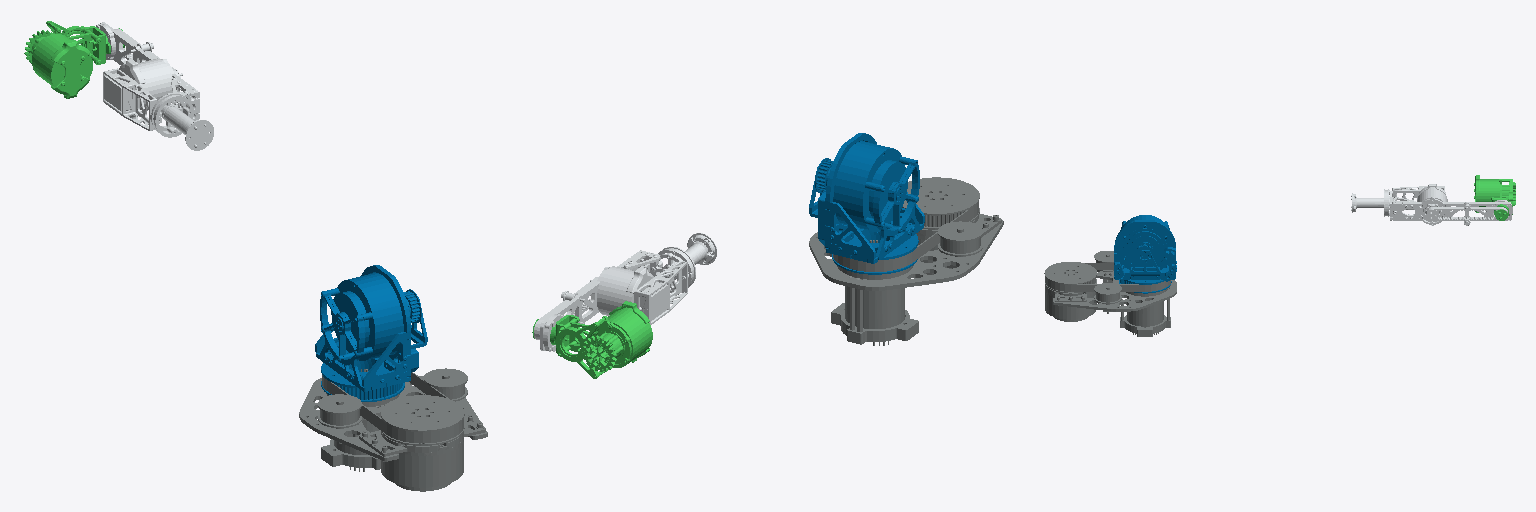
The robot description file, URDF, robot "new_hj_arm2":
<?xml version="1.0" encoding="utf-8"?>
<!-- This URDF was automatically created by SolidWorks to URDF Exporter! Originally created by Stephen Brawner (brawner@gmail.com) 
     Commit Version: 1.6.0-4-g7f85cfe  Build Version: 1.6.7995.38578
     For more information, please see http://wiki.ros.org/sw_urdf_exporter -->
<robot
  name="new_hj_arm2">
  <link name="world"/>
  <joint name="world_to_base_link" type="fixed">
    <origin xyz="0 0 0" rpy="0 0 0"/>
    <parent link="world"/>
    <child link="base_link"/>
  </joint>
  <link
    name="base_link">
    <inertial>
      <origin
        xyz="4.16700669638267E-06 -0.0794009240803317 -0.0408298312832621"
        rpy="0 0 0" />
      <mass
        value="2.86688620352418" />
      <inertia
        ixx="0.00223352537619486"
        ixy="-5.87508404893691E-07"
        ixz="-2.29906665750856E-12"
        iyy="0.0022625703463343"
        iyz="2.43071271778516E-08"
        izz="0.00345618523186513" />
    </inertial>
    <visual>
      <origin
        xyz="0 0 0"
        rpy="0 0 0" />
      <geometry>
        <mesh
          filename="package://new_hj_arm2/meshes/base_link.STL" />
      </geometry>
      <material
        name="">
        <color
          rgba="0.529411764705882 0.549019607843137 0.549019607843137 1" />
      </material>
    </visual>
    <collision>
      <origin
        xyz="0 0 0"
        rpy="0 0 0" />
      <geometry>
        <mesh
          filename="package://new_hj_arm2/meshes/base_link.STL" />
      </geometry>
    </collision>
  </link>
  <link
    name="Link1">
    <inertial>
      <origin
        xyz="0.00797090591062245 0.000282545554052716 0.0480604504227741"
        rpy="0 0 0" />
      <mass
        value="1.43755902347823" />
      <inertia
        ixx="0.00152283746881714"
        ixy="-1.93557146655719E-10"
        ixz="-5.34528316583207E-06"
        iyy="0.00105313129890023"
        iyz="-3.18188661212367E-08"
        izz="0.00124552449316011" />
    </inertial>
    <visual>
      <origin
        xyz="0 0 0"
        rpy="0 0 0" />
      <geometry>
        <mesh
          filename="package://new_hj_arm2/meshes/Link1.STL" />
      </geometry>
      <material
        name="">
        <color
          rgba="0.0392156862745098 0.490196078431373 0.709803921568627 1" />
      </material>
    </visual>
    <collision>
      <origin
        xyz="0 0 0"
        rpy="0 0 0" />
      <geometry>
        <mesh
          filename="package://new_hj_arm2/meshes/Link1.STL" />
      </geometry>
    </collision>
  </link>
  <joint
    name="J1"
    type="revolute">
    <origin
      xyz="0 0 0"
      rpy="0 0 0" />
    <parent
      link="base_link" />
    <child
      link="Link1" />
    <axis
      xyz="0 0 -1" />
    <limit
      lower="-1.57"
      upper="1.57"
      effort="0"
      velocity="0" />
  </joint>
  <link
    name="Link2">
    <inertial>
      <origin
        xyz="0.264563770199006 -0.0298779735329925 -0.0347216558396851"
        rpy="0 0 0" />
      <mass
        value="1.222161876607" />
      <inertia
        ixx="0.0005267286144745"
        ixy="-4.95569461982746E-06"
        ixz="-5.40507552552327E-06"
        iyy="0.0022142748549949"
        iyz="1.05144051154721E-08"
        izz="0.00243683580951343" />
    </inertial>
    <visual>
      <origin
        xyz="0 0 0"
        rpy="0 0 0" />
      <geometry>
        <mesh
          filename="package://new_hj_arm2/meshes/Link2.STL" />
      </geometry>
      <material
        name="">
        <color
          rgba="0.298039215686275 0.298039215686275 0.298039215686275 1" />
      </material>
    </visual>
    <collision>
      <origin
        xyz="0 0 0"
        rpy="0 0 0" />
      <geometry>
        <mesh
          filename="package://new_hj_arm2/meshes/Link2.STL" />
      </geometry>
    </collision>
  </link>
  <joint
    name="J2"
    type="revolute">
    <origin
      xyz="-0.00714999999999977 0 0.0665000000000032"
      rpy="-1.5707963267949 0 1.5707963267949" />
    <parent
      link="Link1" />
    <child
      link="Link2" />
    <axis
      xyz="0 0 -1" />
    <limit
      lower="0"
      upper="3.14"
      effort="0"
      velocity="0" />
  </joint>
  <link
    name="Link3">
    <inertial>
      <origin
        xyz="0.113684624569099 0.0240009505721293 0.00280474834274411"
        rpy="0 0 0" />
      <mass
        value="1.08853156661815" />
      <inertia
        ixx="0.000433664423325676"
        ixy="-2.30950084364458E-07"
        ixz="-1.19178135668178E-05"
        iyy="0.000442953685344573"
        iyz="4.28661024823455E-08"
        izz="0.000443431763019291" />
    </inertial>
    <visual>
      <origin
        xyz="0 0 0"
        rpy="0 0 0" />
      <geometry>
        <mesh
          filename="package://new_hj_arm2/meshes/Link3.STL" />
      </geometry>
      <material
        name="">
        <color
          rgba="1 1 1 1" />
      </material>
    </visual>
    <collision>
      <origin
        xyz="0 0 0"
        rpy="0 0 0" />
      <geometry>
        <mesh
          filename="package://new_hj_arm2/meshes/Link3.STL" />
      </geometry>
    </collision>
  </link>
  <joint
    name="J3"
    type="revolute">
    <origin
      xyz="0.359999999999996 0 0.0291500000000226"
      rpy="0 0 -1.57079632679488" />
    <parent
      link="Link2" />
    <child
      link="Link3" />
    <axis
      xyz="0 0 -1" />
    <limit
      lower="-3.14"
      upper="0"
      effort="0"
      velocity="0" />
  </joint>
  <link
    name="Link4">
    <inertial>
      <origin
        xyz="-0.014973832536804 2.31717537935161E-06 0.145136725371898"
        rpy="0 0 0" />
      <mass
        value="0.616504910180927" />
      <inertia
        ixx="0.000511697593438133"
        ixy="1.41099830766639E-08"
        ixz="-4.32931649609612E-08"
        iyy="0.000485390300822091"
        iyz="-4.40119577329866E-07"
        izz="0.000158586296116346" />
    </inertial>
    <visual>
      <origin
        xyz="0 0 0"
        rpy="0 0 0" />
      <geometry>
        <mesh
          filename="package://new_hj_arm2/meshes/Link4.STL" />
      </geometry>
      <material
        name="">
        <color
          rgba="0.898039215686275 0.917647058823529 0.929411764705882 1" />
      </material>
    </visual>
    <collision>
      <origin
        xyz="0 0 0"
        rpy="0 0 0" />
      <geometry>
        <mesh
          filename="package://new_hj_arm2/meshes/Link4.STL" />
      </geometry>
    </collision>
  </link>
  <joint
    name="J4"
    type="revolute">
    <origin
      xyz="0.0800000000000044 0.309999999999998 -0.0391500000000218"
      rpy="1.5707963267949 -1.5707963267949 0" />
    <parent
      link="Link3" />
    <child
      link="Link4" />
    <axis
      xyz="0 0 1" />
    <limit
      lower="-3.14"
      upper="3.14"
      effort="0"
      velocity="0" />
  </joint>
  <link
    name="Link5">
    <inertial>
      <origin
        xyz="5.73658753950657E-05 -0.0172929111633652 0.0272790476313854"
        rpy="0 0 0" />
      <mass
        value="0.438594887761117" />
      <inertia
        ixx="0.000134340591839493"
        ixy="1.26943388632374E-13"
        ixz="9.79839883757852E-13"
        iyy="0.000156693109015802"
        iyz="2.57203003305503E-08"
        izz="0.000137953754169792" />
    </inertial>
    <visual>
      <origin
        xyz="0 0 0"
        rpy="0 0 0" />
      <geometry>
        <mesh
          filename="package://new_hj_arm2/meshes/Link5.STL" />
      </geometry>
      <material
        name="">
        <color
          rgba="0.341176470588235 0.83921568627451 0.411764705882353 1" />
      </material>
    </visual>
    <collision>
      <origin
        xyz="0 0 0"
        rpy="0 0 0" />
      <geometry>
        <mesh
          filename="package://new_hj_arm2/meshes/Link5.STL" />
      </geometry>
    </collision>
  </link>
  <joint
    name="J5"
    type="revolute">
    <origin
      xyz="0 0 0"
      rpy="-1.5707963267949 0 -1.57079632679491" />
    <parent
      link="Link4" />
    <child
      link="Link5" />
    <axis
      xyz="0 0 -1" />
    <limit
      lower="-2.0"
      upper="2.0"
      effort="0"
      velocity="0" />
  </joint>
  <link
    name="Link6">
    <inertial>
      <origin
        xyz="-0.00127413370926294 -0.000463299260715249 0.0878127564203931"
        rpy="0 0 0" />
      <mass
        value="0.624567971061493" />
      <inertia
        ixx="0.000286781766280972"
        ixy="3.06484650489132E-07"
        ixz="-8.87084529559445E-09"
        iyy="0.000185740348109072"
        iyz="-1.89929566435716E-09"
        izz="0.000288461409785258" />
    </inertial>
    <visual>
      <origin
        xyz="0 0 0"
        rpy="0 0 0" />
      <geometry>
        <mesh
          filename="package://new_hj_arm2/meshes/Link6.STL" />
      </geometry>
      <material
        name="">
        <color
          rgba="0.529411764705882 0.549019607843137 0.549019607843137 1" />
      </material>
    </visual>
    <collision>
      <origin
        xyz="0 0 0"
        rpy="0 0 0" />
      <geometry>
        <mesh
          filename="package://new_hj_arm2/meshes/Link6.STL" />
      </geometry>
    </collision>
  </link>
  <joint
    name="J6"
    type="revolute">
    <origin
      xyz="0 0 0"
      rpy="-1.5707963267949 0 0" />
    <parent
      link="Link5" />
    <child
      link="Link6" />
    <axis
      xyz="0 0 -1" />
    <limit
      lower="-3.14"
      upper="3.14"
      effort="0"
      velocity="0" />
  </joint>
</robot>

--- Render facts (derived) ---
Views: 3 orthographic renders of the robot side by side, from view 1: azimuth 30°, elevation 25°; view 2: azimuth 150°, elevation 25°; view 3: azimuth 270°, elevation 25°.
Model new_hj_arm2 with 8 links and 7 joints (6 revolute, 1 fixed), rooted at world, posed every joint at zero.
Links seen in each view (by area): view 1: base_link, Link1, Link4, Link5; view 2: base_link, Link1, Link4, Link5; view 3: base_link, Link1, Link4, Link5.
Link boxes in pixels (x1=…): base_link: x1=299, y1=368, x2=487, y2=491; Link1: x1=315, y1=265, x2=427, y2=401; Link4: x1=96, y1=22, x2=213, y2=150; Link5: x1=24, y1=21, x2=124, y2=98; base_link: x1=809, y1=177, x2=1003, y2=345; Link1: x1=809, y1=133, x2=924, y2=274; Link4: x1=534, y1=233, x2=716, y2=351; Link5: x1=532, y1=301, x2=652, y2=378; base_link: x1=1044, y1=251, x2=1176, y2=336; Link1: x1=1114, y1=215, x2=1176, y2=293; Link4: x1=1351, y1=184, x2=1512, y2=225; Link5: x1=1474, y1=175, x2=1515, y2=220.
Bounding box of the posed robot: 0.2 × 0.8855 × 0.3017 m (x, y, z).
4 mesh visuals loaded from 7 distinct referenced files (4 binary STL); not drawn: 3 (reference not matched to a file when rendering).
